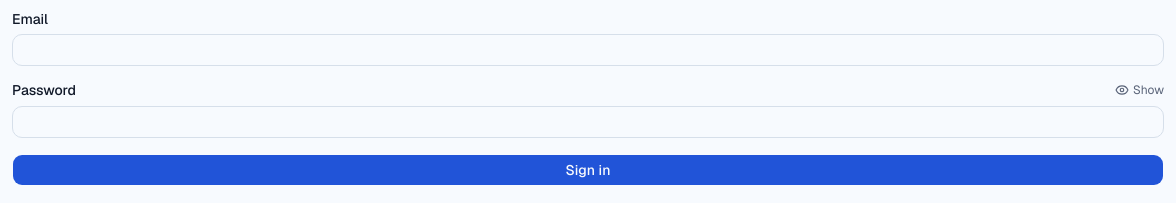
LoginForm › shows a pending label while submitting
In the field labelled "Email": (588, 50) [12,34,1164,66], type "ada@example.com"
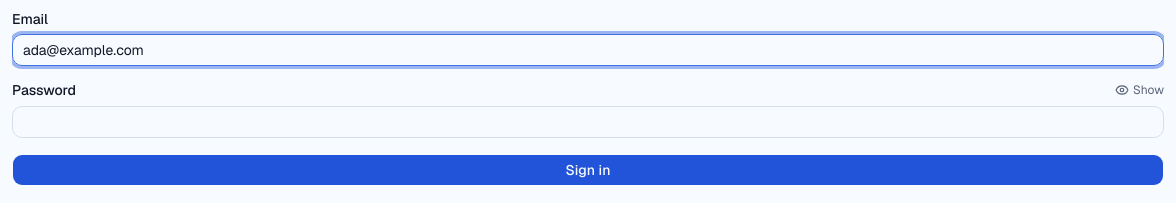
In the password field labelled "Password": (588, 122) [12,106,1164,138], type "correct horse battery"
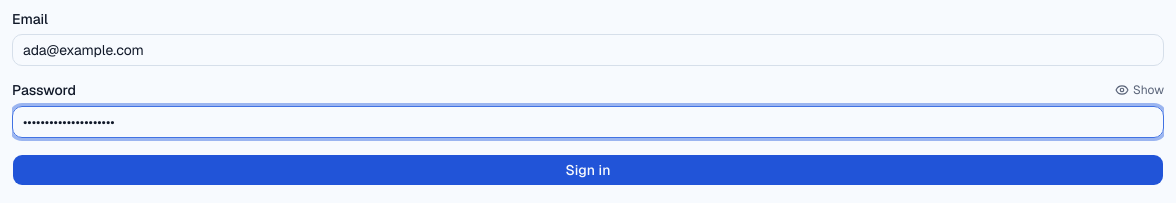
Click the button "Sign in": click(588, 170) [12,154,1164,186]
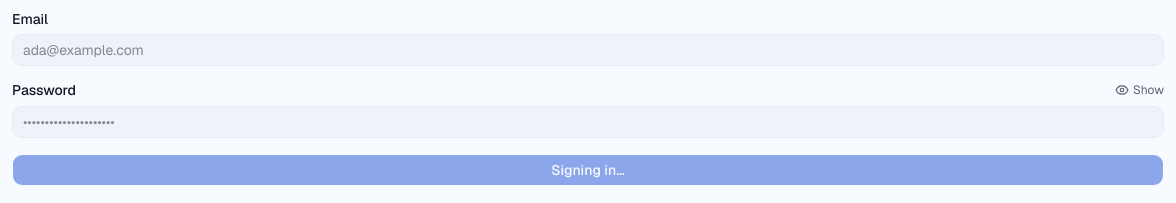
Result: the button "Signing in…" is disabled at [12,154,1164,186]
Result: the field labelled "Email" is disabled at [12,34,1164,66]
